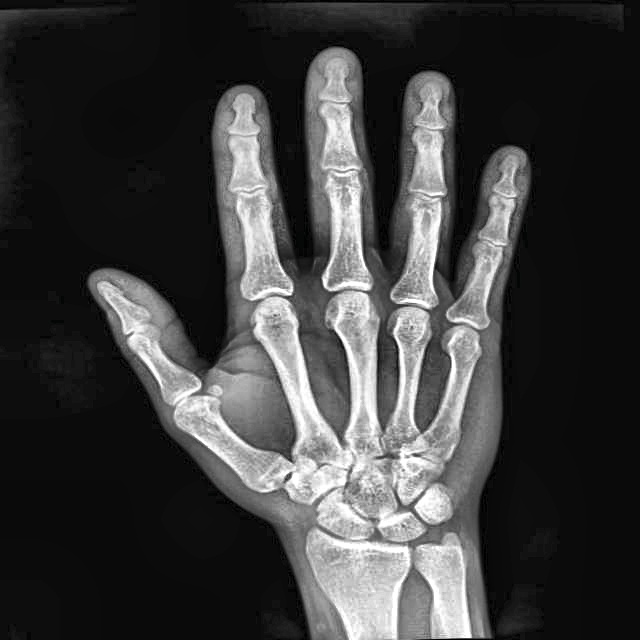Healthy: (139, 125, 529, 607)
